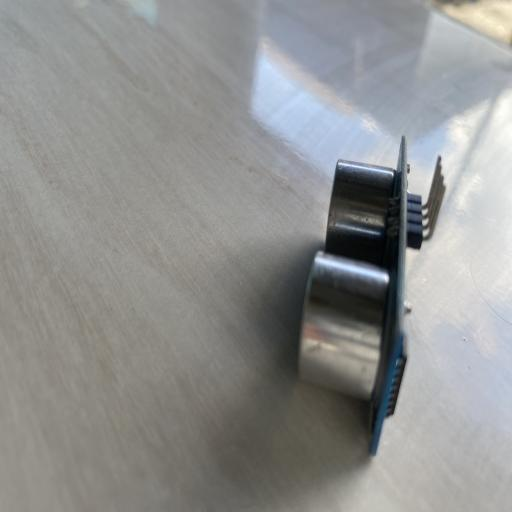Ultrasonic Sensor: (298, 133, 448, 456)
